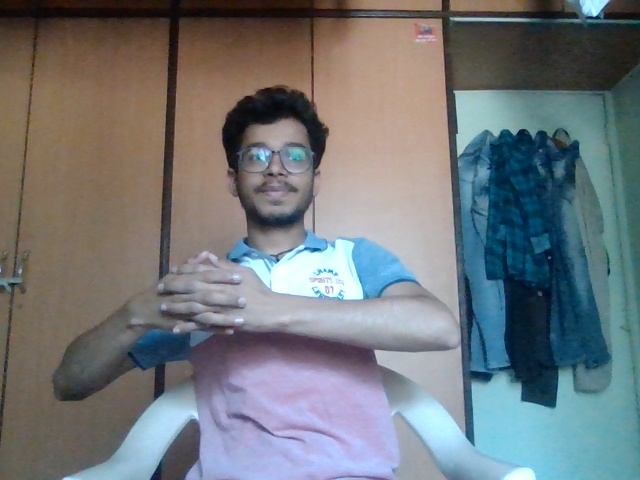good: (142, 228, 291, 358)
